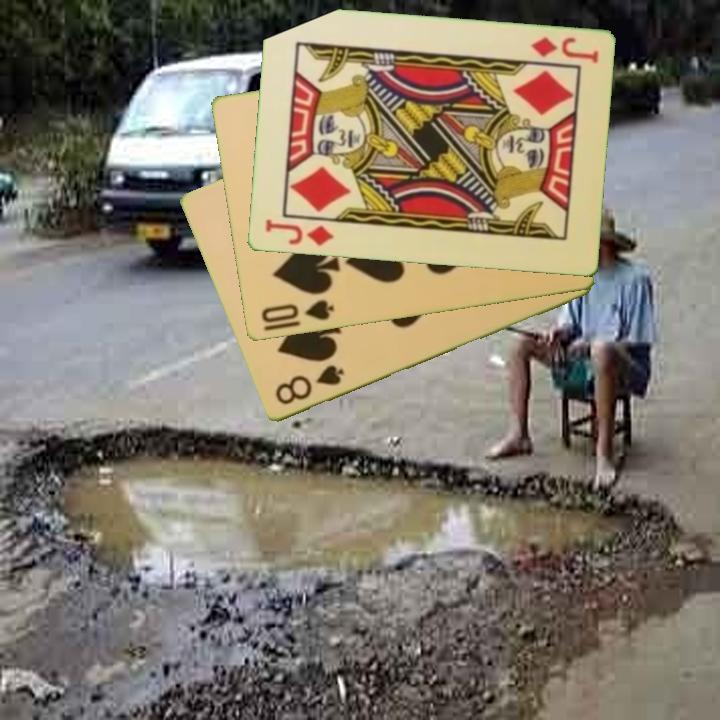10s: (257, 296, 337, 327)
8s: (271, 361, 347, 409)
Jd: (261, 216, 336, 250), (527, 34, 601, 67)
